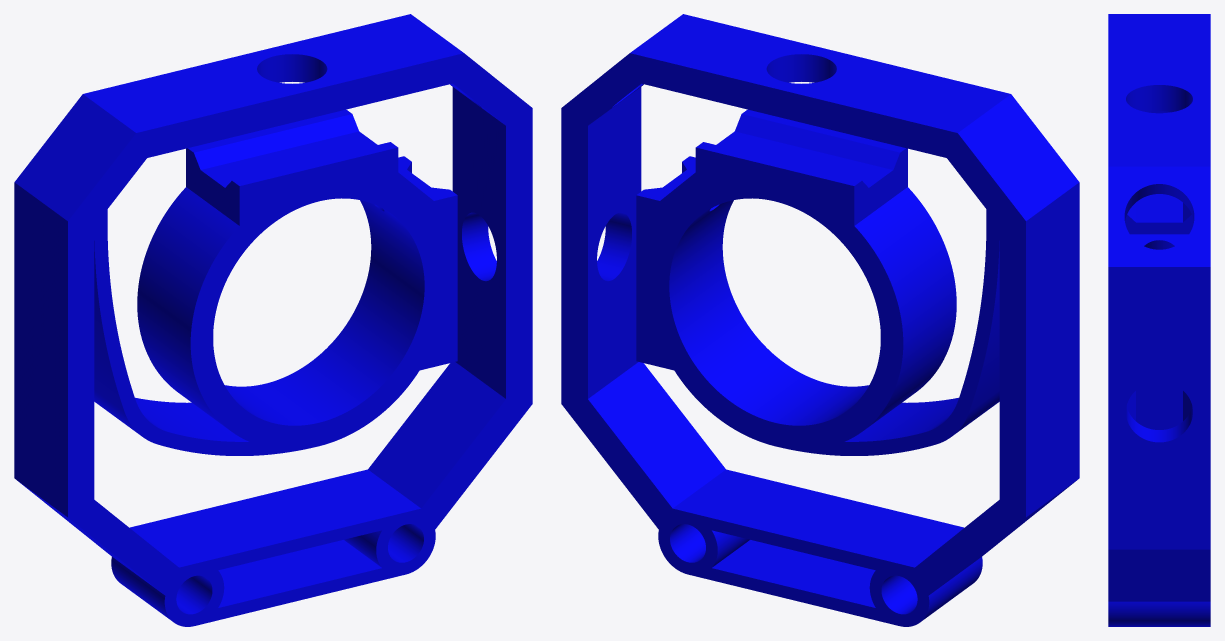
File: V5_Laser Holder (USB Laser).obj
3 renders of one model, left to right at view 1: azimuth 30°, elevation 25°; view 2: azimuth 150°, elevation 25°; view 3: azimuth 270°, elevation 25°, orthographic. The views are drawn at different scales.
Parts seen in each view (by area): view 1: Solid1:24; view 2: Solid1:24; view 3: Solid1:24.
Boxes of the visible parts, x1,y1,x2,y2 form: Solid1:24: [14, 14, 532, 626]; Solid1:24: [561, 14, 1079, 626]; Solid1:24: [1108, 14, 1210, 626].
Size of the model in its own units: 43.94 by 45.83 by 8.75.
